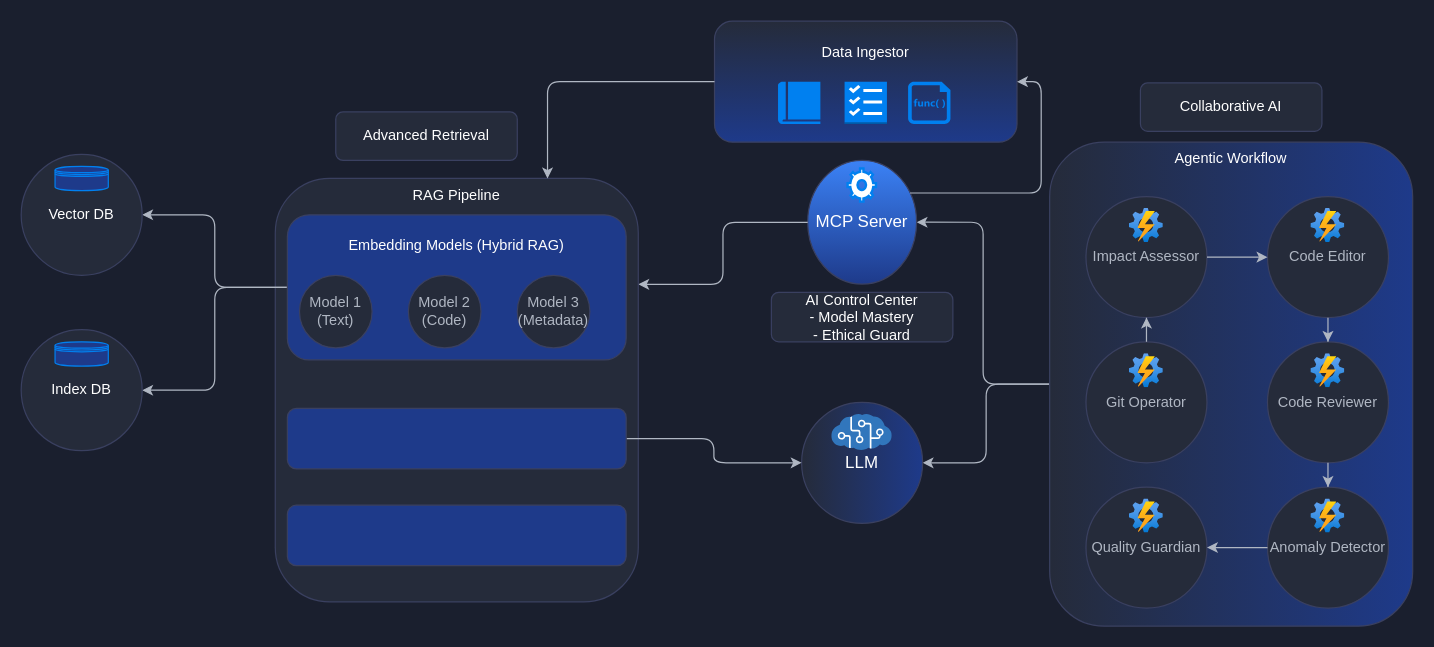
The diagram is 1434 pixels wide and 647 high, and some of its shapes have lost their labels. Each missing label, with the centre of its shape:
"Generator" belongs at [456,535].
"Retriever" belongs at [456,438].
